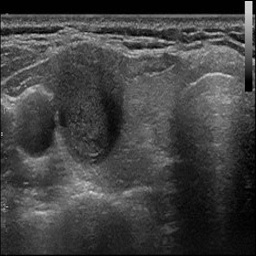mass: (55, 42, 121, 165)
